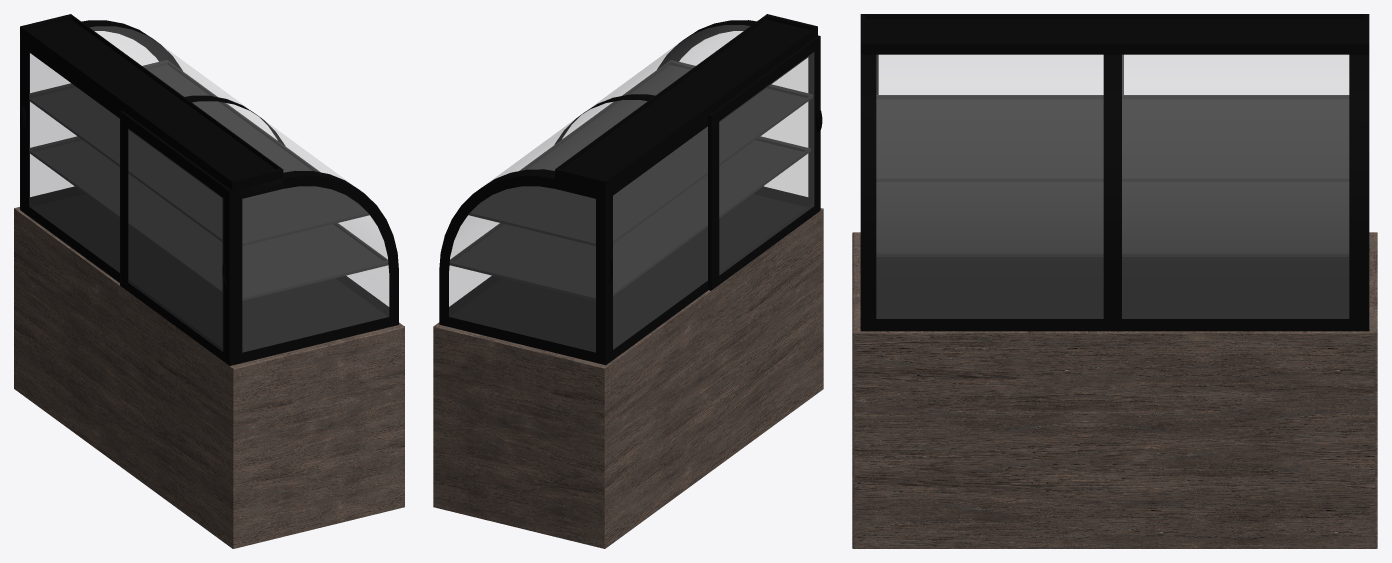
The model's file is showcase.glb.
3 views of the same model, side by side, from view 1: azimuth 30°, elevation 25°; view 2: azimuth 150°, elevation 25°; view 3: azimuth 270°, elevation 25° (orthographic). The views are drawn at different scales.
Visible parts, largest first — view 1: Cafe showcase_4, glass_1, black_0, plate.001_3; view 2: Cafe showcase_4, glass_1, black_0, plate.001_3; view 3: glass_1, Cafe showcase_4, plate.001_3, black_0.
Part boxes in pixels (<box>): Cafe showcase_4: <box>14,207,404,548</box>; glass_1: <box>29,26,388,351</box>; black_0: <box>20,14,398,365</box>; plate.001_3: <box>29,60,388,300</box>; Cafe showcase_4: <box>433,208,823,548</box>; glass_1: <box>449,25,813,352</box>; black_0: <box>439,14,820,365</box>; plate.001_3: <box>449,60,812,300</box>; glass_1: <box>876,55,1348,318</box>; Cafe showcase_4: <box>852,232,1377,548</box>; plate.001_3: <box>876,95,1349,256</box>; black_0: <box>860,14,1369,331</box>.
Bounding box in the file's own units: 1.15 × 2.28 × 2.48.
7 materials, 1 textured.
